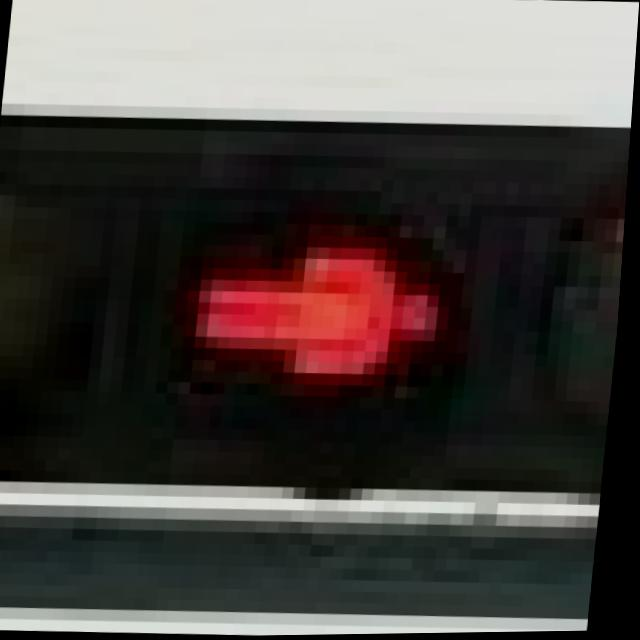red_light: (179, 207, 506, 439)
